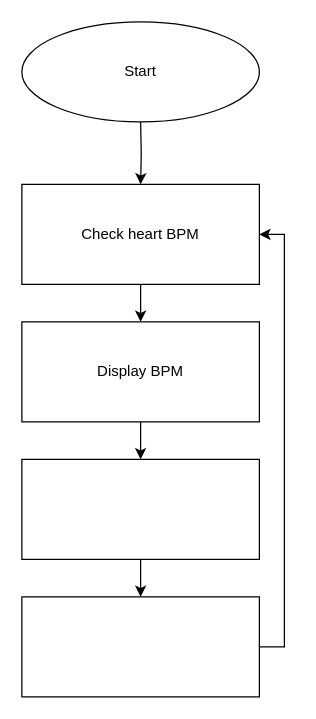
Some shapes in this 316 by 719 pixel diagram are drawn without their labels. The shapes that lost their labels are listed below. From the top down, each one's centre as x and y in pixels, then its label:
At point 140,508: "Check temperature".
At point 140,646: "Display temperature".
